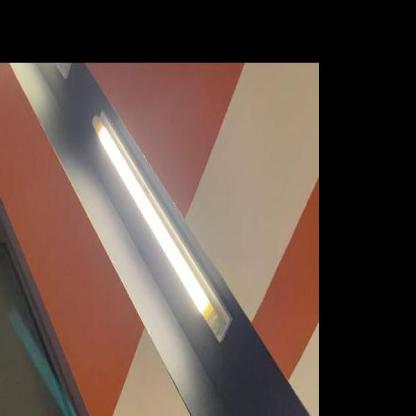light_on: (78, 103, 238, 345), (274, 414, 319, 414)
